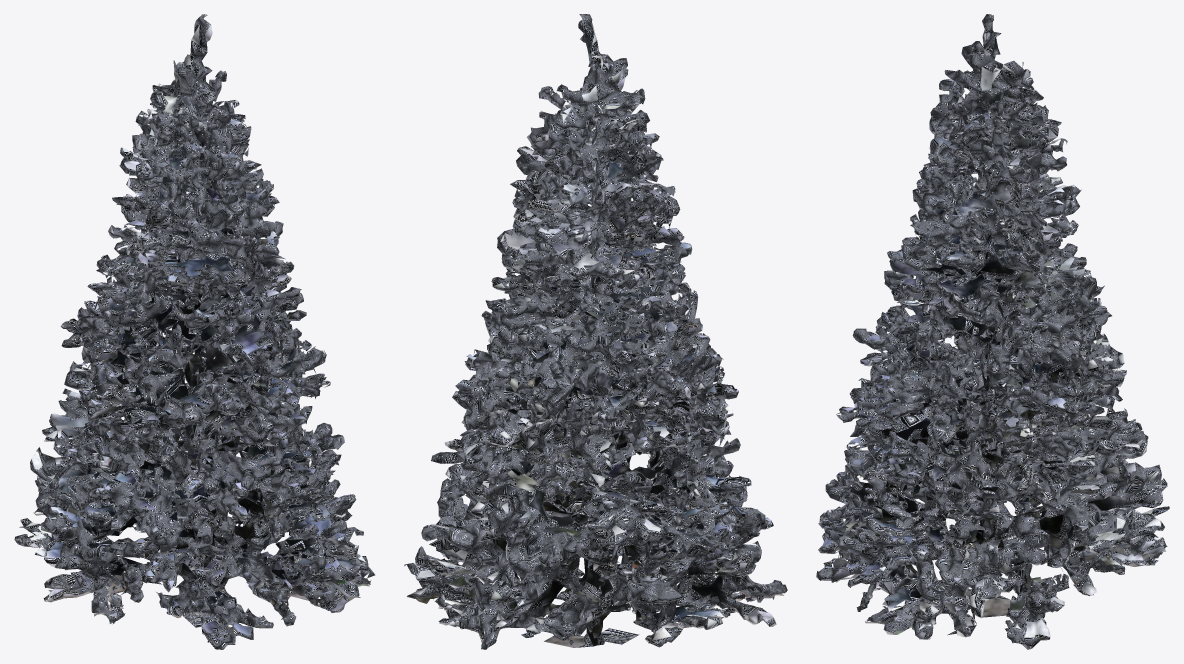
Rendered from sapin_neige.glb.
3 renders of one model, left to right at view 1: azimuth 30°, elevation 25°; view 2: azimuth 150°, elevation 25°; view 3: azimuth 270°, elevation 25°, orthographic. The views are drawn at different scales.
Visible parts, largest first — view 1: Object_2; view 2: Object_2; view 3: Object_2.
Boxes of the visible parts, x1,y1,x2,y2 form: Object_2: (14,14,375,649); Object_2: (404,14,787,649); Object_2: (816,14,1169,649).
Size of the model in its own units: 13.36 by 24.15 by 13.05.
Materials: 1 (1 with a texture image).
